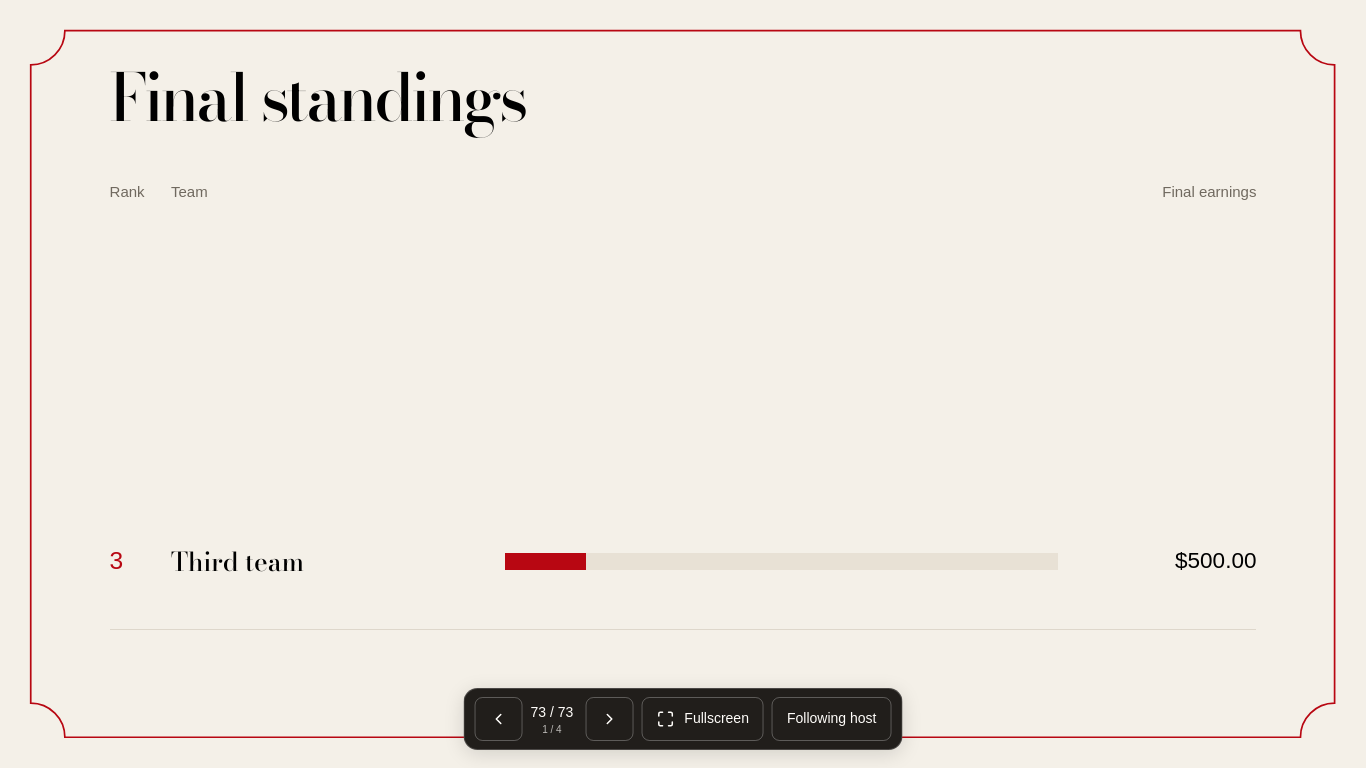
Test: presentation access and host separation › adapts final standings to three teams and reveals the average only after first place
Check: the text "Third team" is shown, box [171, 542, 304, 581]
Check: the element named "Reveal 1 of 4" is shown, box [530, 702, 577, 736]
Click the button named "Next step": x=609, y=719 [585, 697, 633, 741]
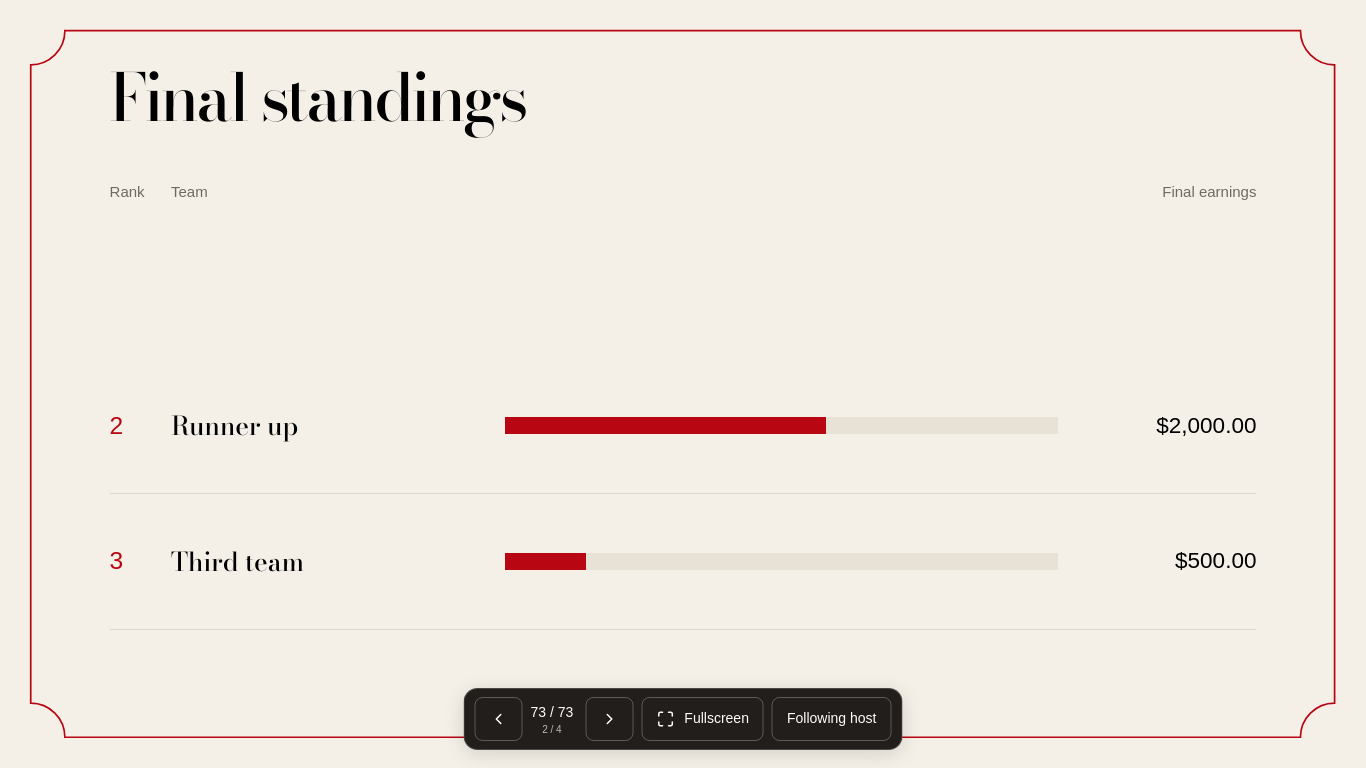
Check: the text "Runner up" is shown, box [171, 406, 298, 445]
Click the button named "Next step": x=609, y=719 [585, 697, 633, 741]
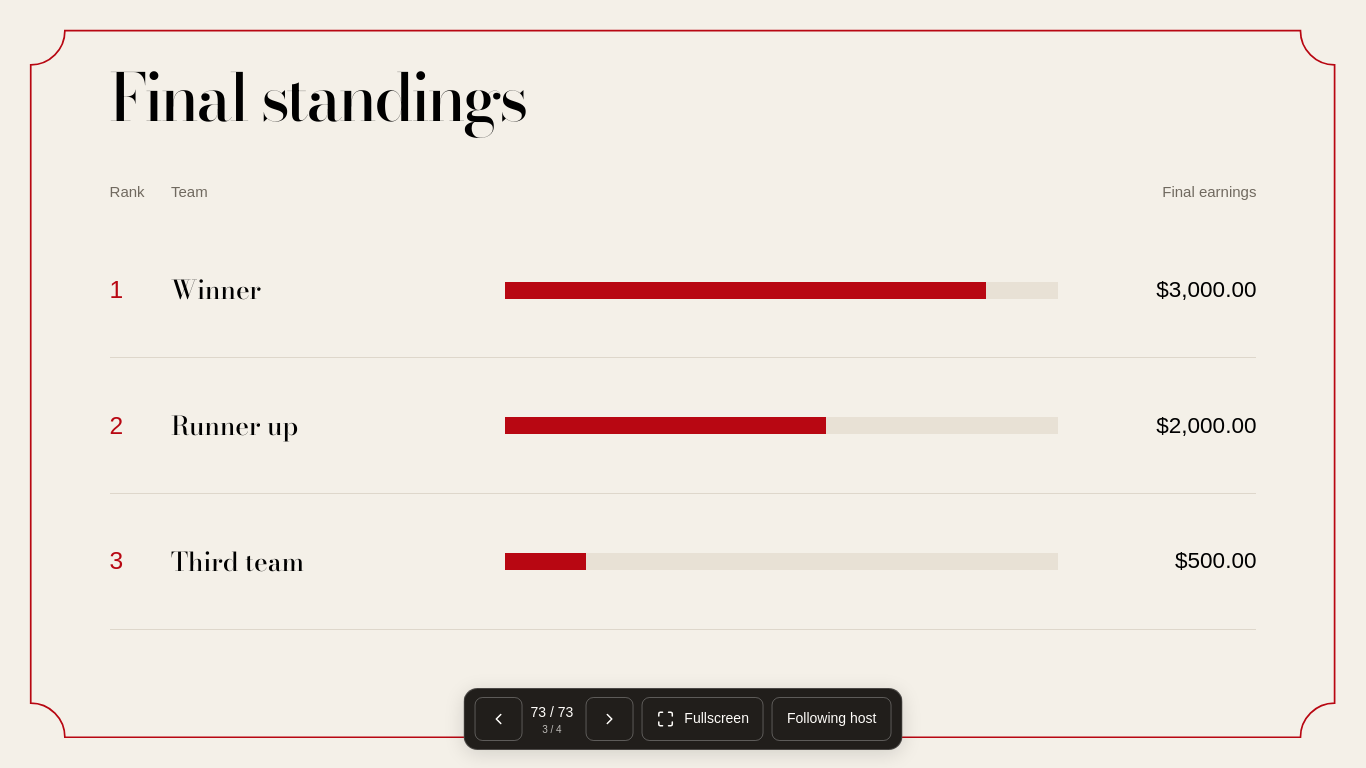
Check: the text "AI average" is not shown
Check: the text "Winner" is shown, box [171, 270, 261, 310]
Click the button named "Next step": x=609, y=719 [585, 697, 633, 741]
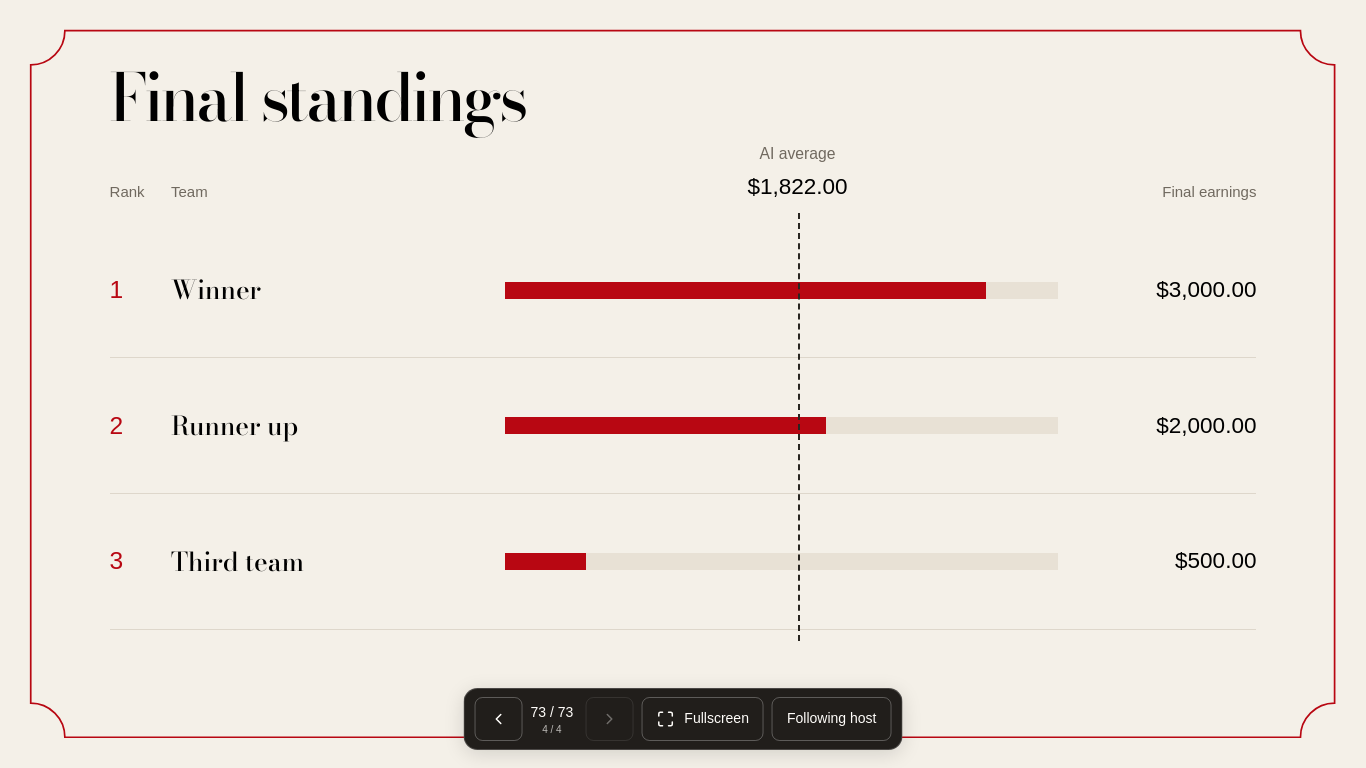
Check: the text "AI average" is shown, box [760, 145, 836, 162]
Check: the button named "Next step" is disabled, box [585, 697, 633, 741]
